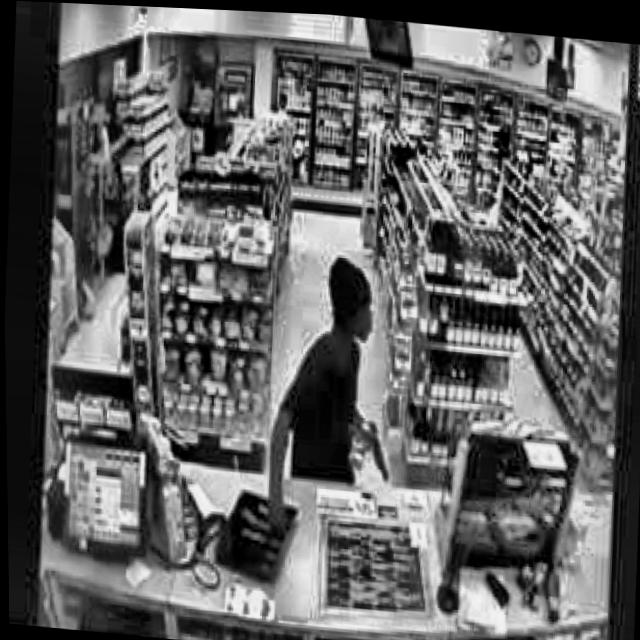robbery: (255, 243, 405, 538)
